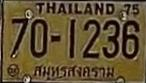0: (30, 18, 47, 57)
1: (70, 18, 74, 57)
2: (82, 18, 99, 57)
3: (102, 19, 119, 57)
6: (122, 19, 138, 58)
7: (10, 17, 28, 57)
SKM: (31, 62, 116, 81)
